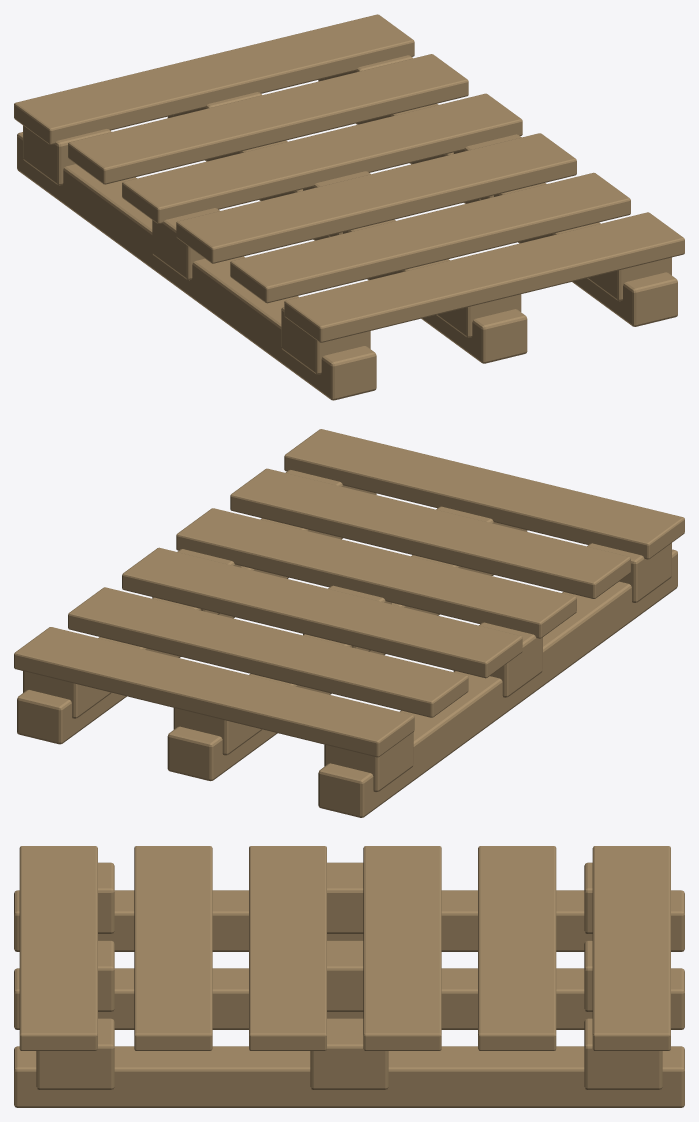
Rendered from pallet.glb.
The picture shows the model from 3 angles, top to bottom: view 1: azimuth 30°, elevation 25°; view 2: azimuth 150°, elevation 25°; view 3: azimuth 270°, elevation 25°; orthographic projection. The views are drawn at different scales.
Visible parts, largest first — view 1: Pallet Timber; view 2: Pallet Timber; view 3: Pallet Timber.
Part boxes in pixels (x1,y1,x2,y2): Pallet Timber: (14, 14, 684, 400); Pallet Timber: (14, 429, 684, 817); Pallet Timber: (14, 846, 684, 1107).
Size of the model in its own units: 0.8 by 0.1575 by 1.2.
